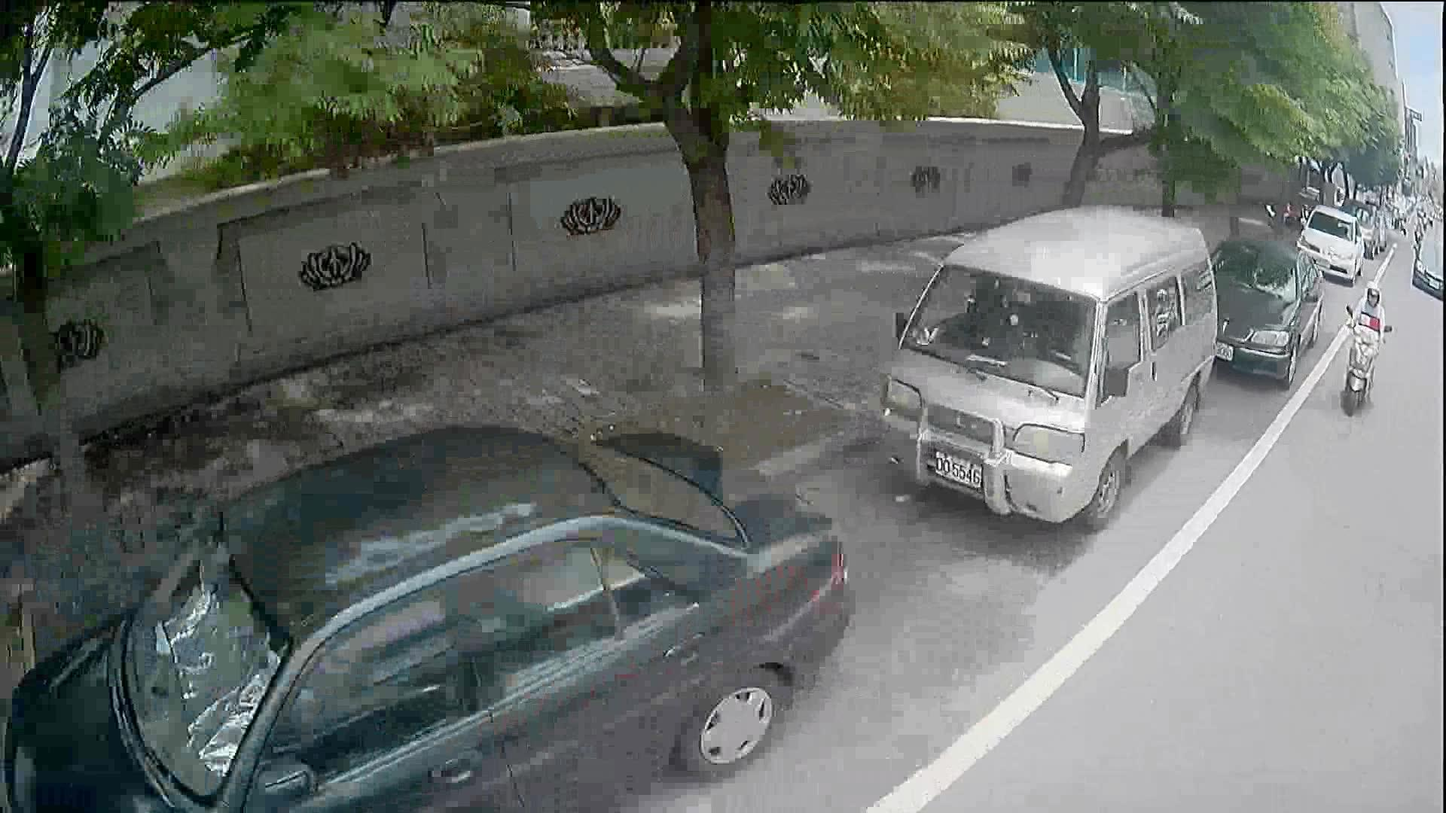person: (1347, 285, 1386, 340)
